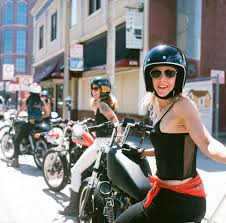helmet: (142, 44, 188, 99)
